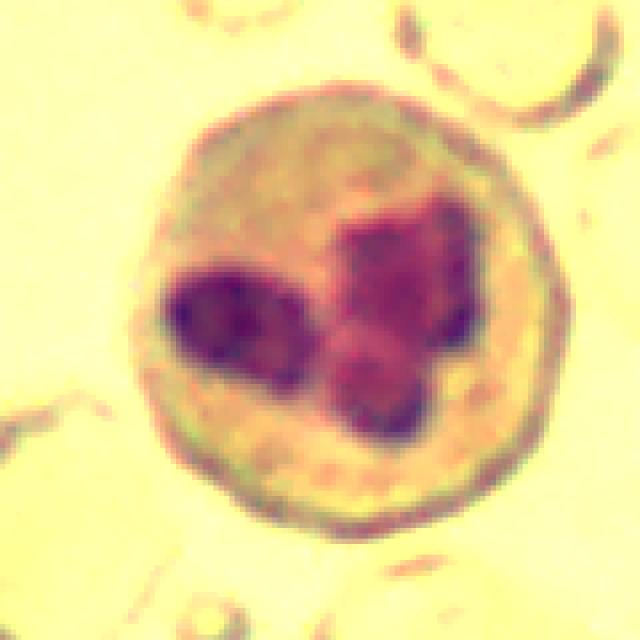WBC: (107, 75, 592, 560)
